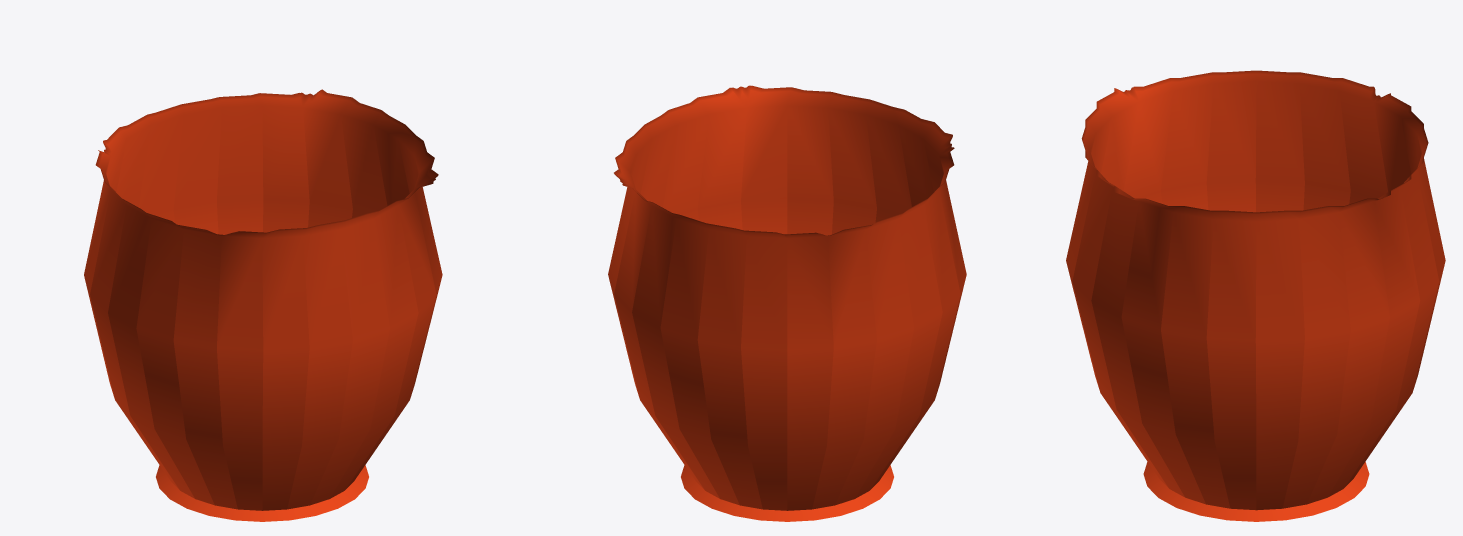
File: SmallEngine.fbx
3 views of the same model, side by side, from view 1: azimuth 30°, elevation 25°; view 2: azimuth 150°, elevation 25°; view 3: azimuth 270°, elevation 25° (orthographic). The views are drawn at different scales.
Parts seen in each view (by area): view 1: Engine; view 2: Engine; view 3: Engine.
Part boxes in pixels (<box>): Engine: <box>84,89,442,521</box>; Engine: <box>608,85,966,521</box>; Engine: <box>1066,70,1445,521</box>.
Size of the model in its own units: 1.48 by 1.61 by 1.48.
Materials: 1 (1 with a texture image).
